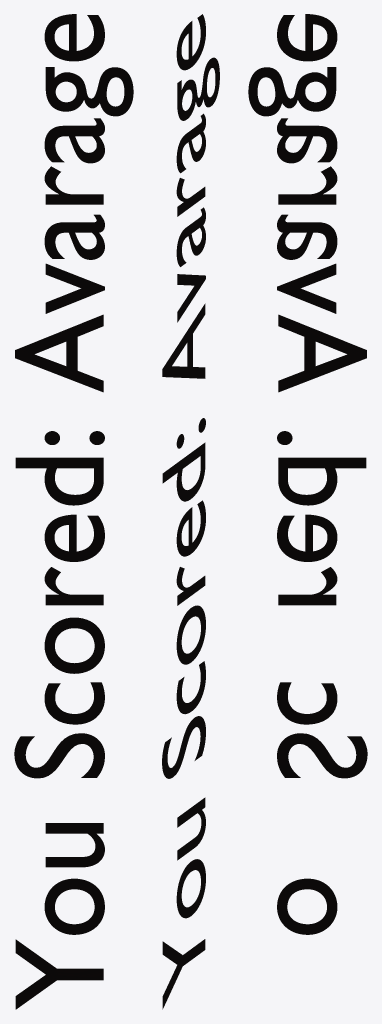
The model's file is point3.dae.
The picture shows the model from 3 angles, left to right: view 1: azimuth 90°, elevation 25°; view 2: azimuth 150°, elevation 25°; view 3: azimuth 270°, elevation 25°; orthographic projection. The views are drawn at different scales.
Visible parts, largest first — view 1: Text; view 2: Text; view 3: Text.
Part boxes in pixels (x1,y1,x2,y2): Text: (14,14,133,1009); Text: (162,14,219,1009); Text: (248,14,367,934).
Bounding box in the file's own units: 3.71e-07 × 0.921 × 8.49.
Materials: 1 (1 with a texture image).
